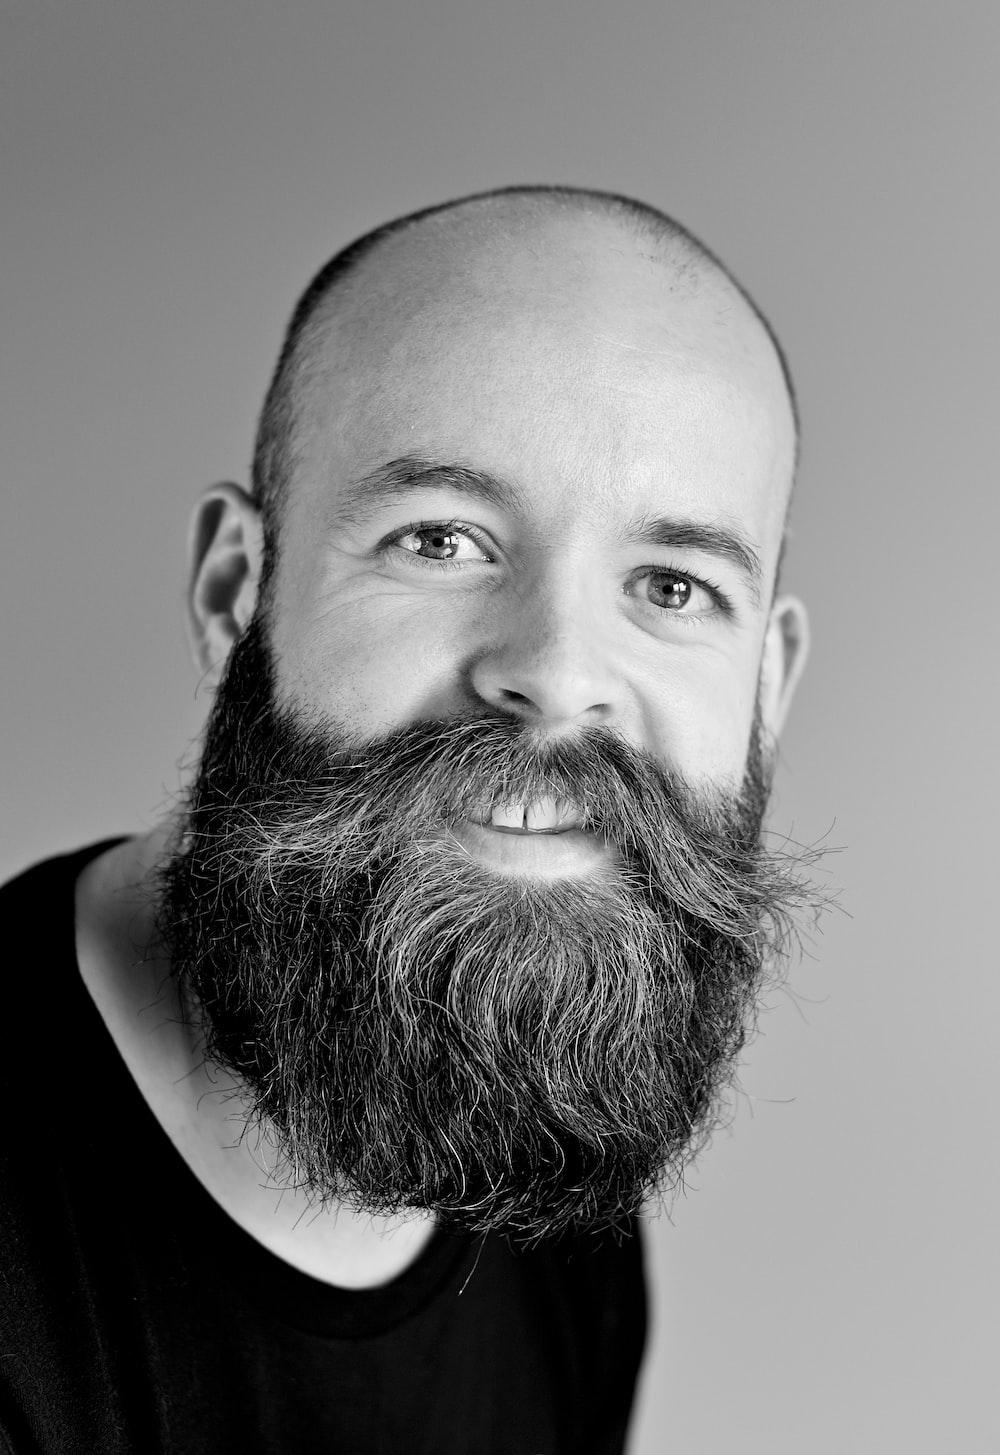face: (50, 132, 929, 1375)
